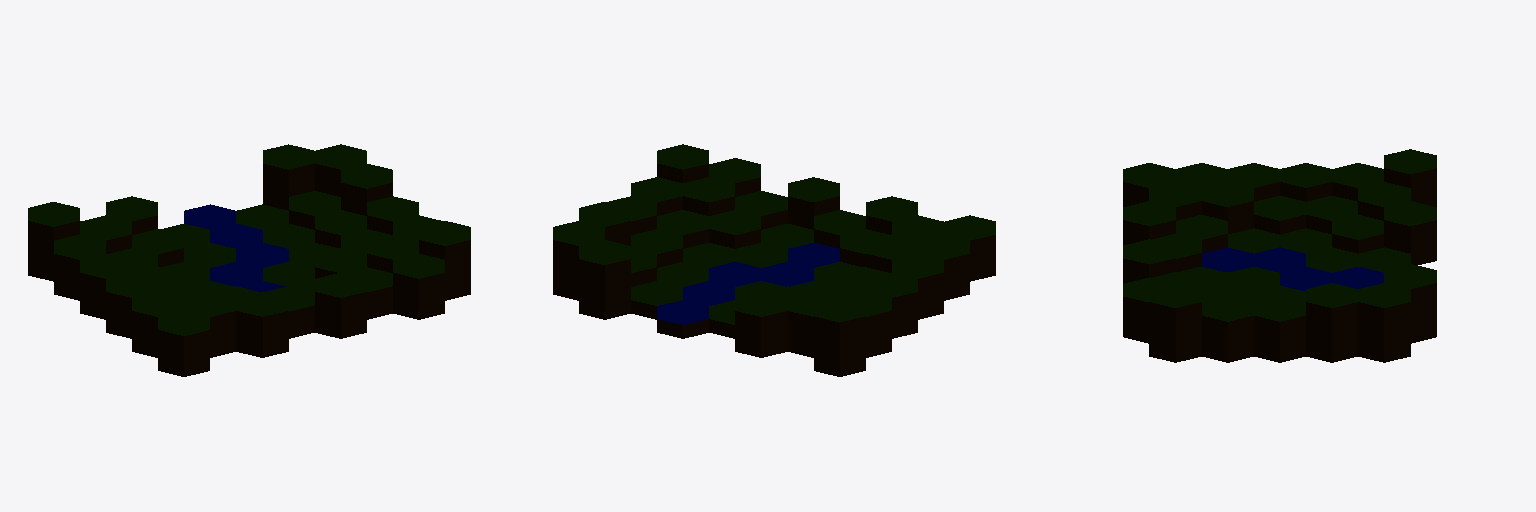
File: HexFloor.obj
3 renders of one model, left to right at view 1: azimuth 30°, elevation 25°; view 2: azimuth 150°, elevation 25°; view 3: azimuth 270°, elevation 25°, orthographic.
Parts seen in each view (by area): view 1: Hex-Lvl2, Hex-Lvl3, Hex-Lvl0, Hex-Lvl1; view 2: Hex-Lvl2, Hex-Lvl3, Hex-Lvl0, Hex-Lvl1; view 3: Hex-Lvl2, Hex-Lvl3, Hex-Lvl0, Hex-Lvl1.
Part boxes in pixels (x1,y1,x2,y2): Hex-Lvl2: (54,196,444,376); Hex-Lvl3: (28,144,470,300); Hex-Lvl0: (160,204,338,292); Hex-Lvl1: (110,191,392,338); Hex-Lvl2: (608,158,995,357); Hex-Lvl3: (553,144,865,376); Hex-Lvl0: (631,224,863,338); Hex-Lvl1: (631,191,888,297); Hex-Lvl2: (1123,163,1436,362); Hex-Lvl3: (1149,149,1436,362); Hex-Lvl0: (1178,228,1410,296); Hex-Lvl1: (1152,196,1383,302).
Size of the model in its own units: 25 by 4 by 20.78.